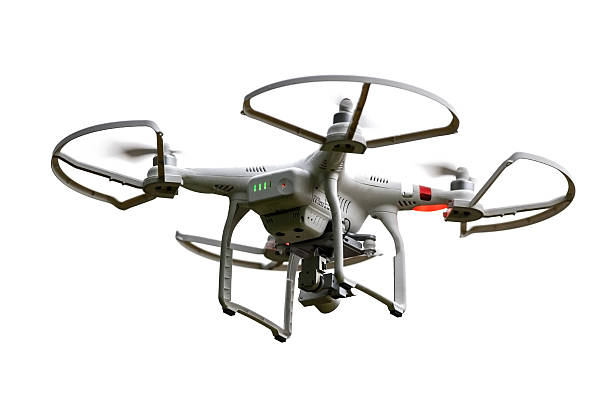Drone: (40, 70, 575, 344)
